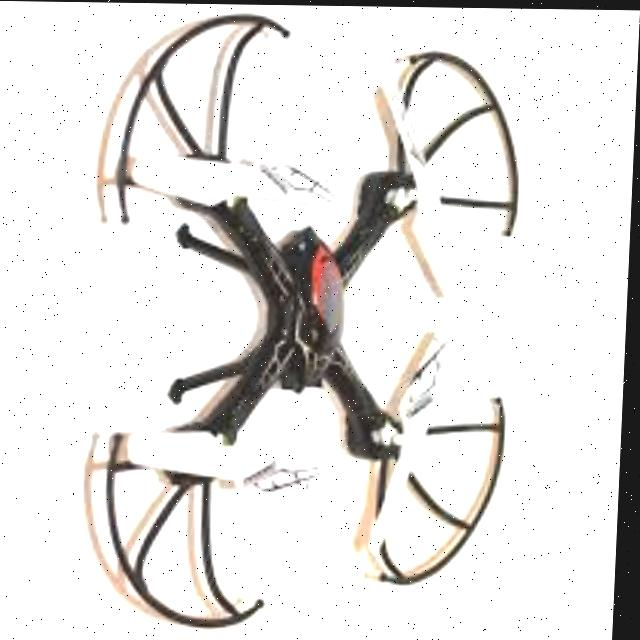drone: (81, 1, 527, 640)
